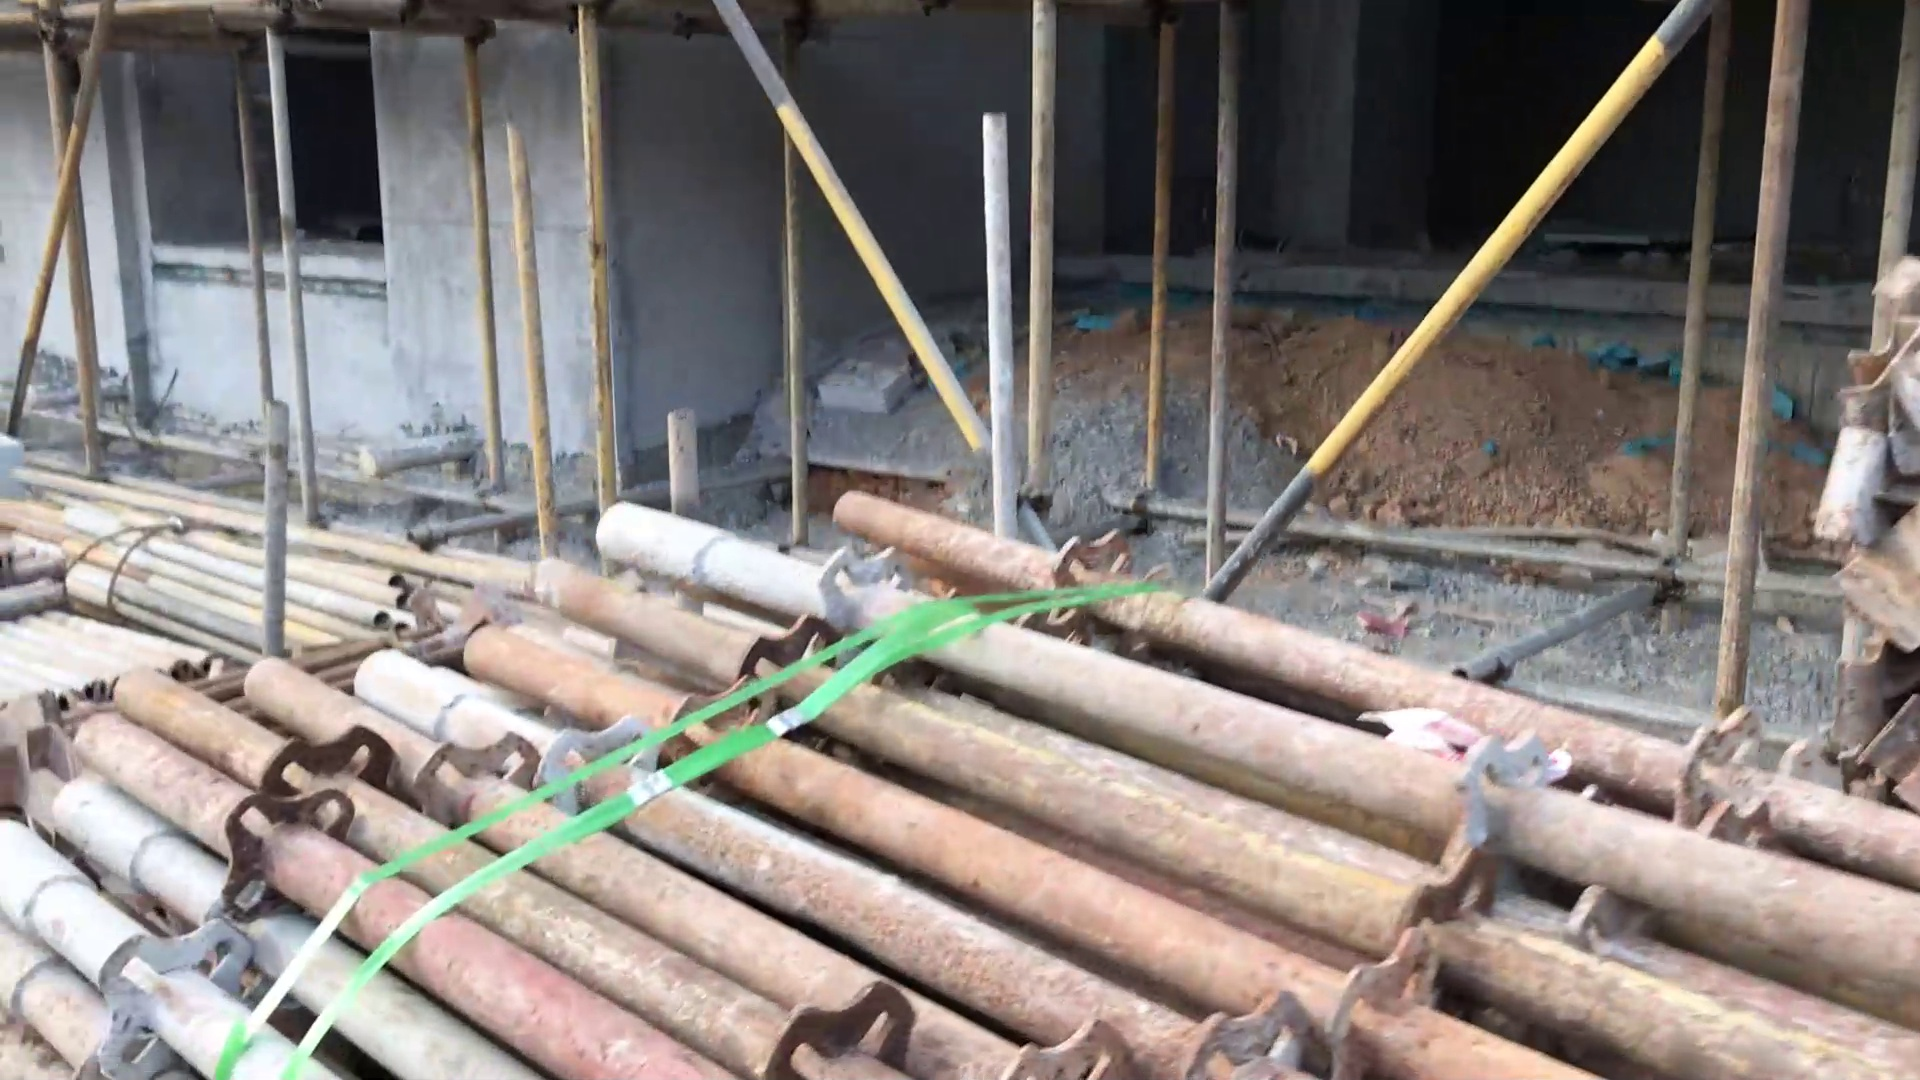scaffold: (1, 467, 1920, 1080)
